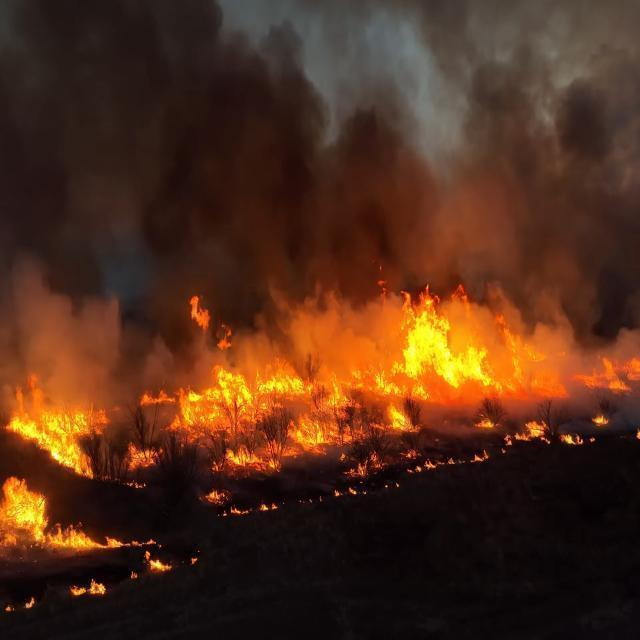Fire: (394, 298, 496, 389), (9, 381, 96, 472), (189, 356, 302, 420), (0, 476, 56, 549)
Smoke: (165, 21, 330, 307), (526, 85, 639, 320), (10, 218, 127, 365)
